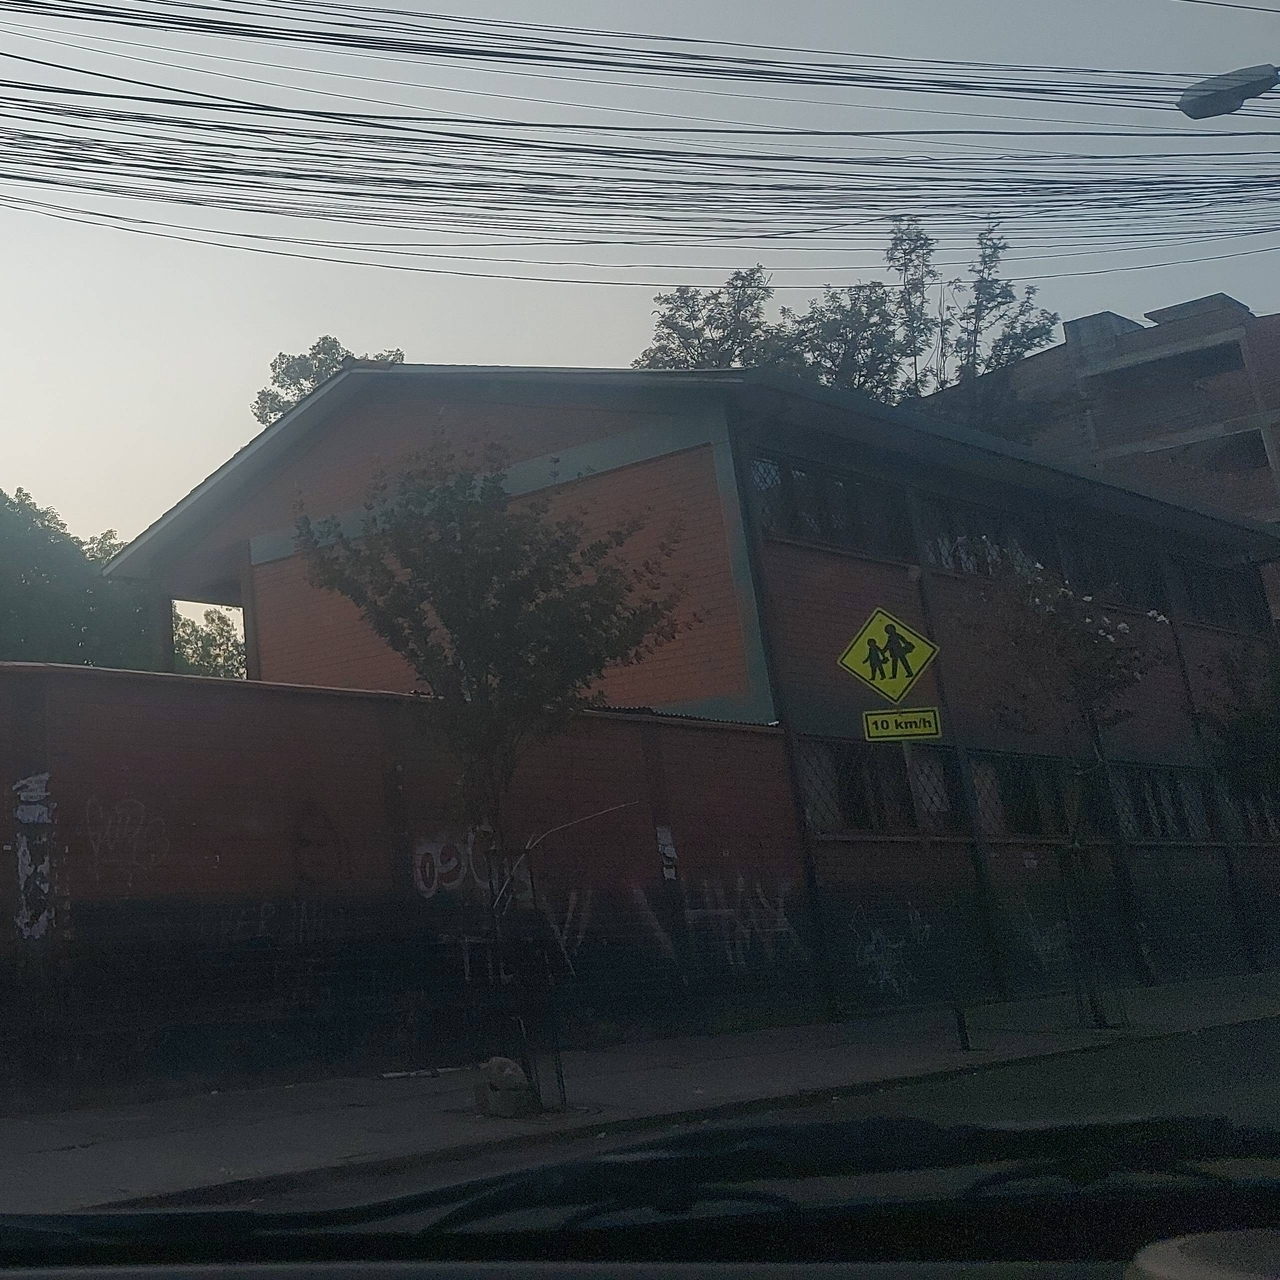zona-escolar: (833, 606, 934, 709)
